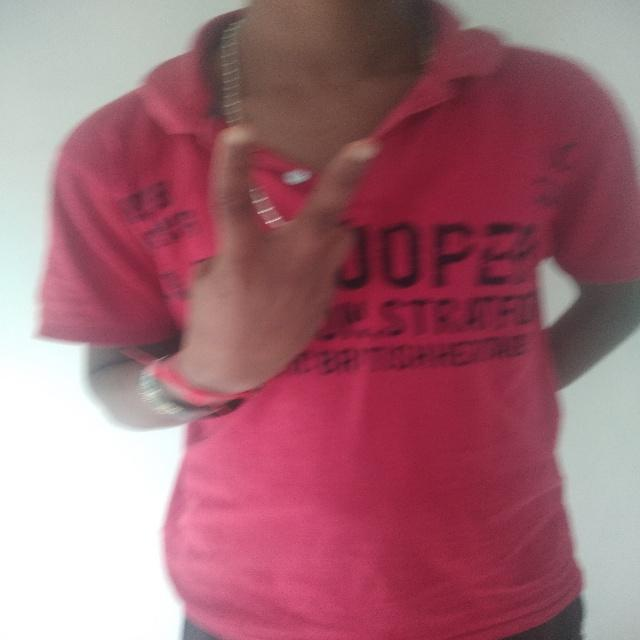Reversed Victory: (144, 125, 392, 426)
